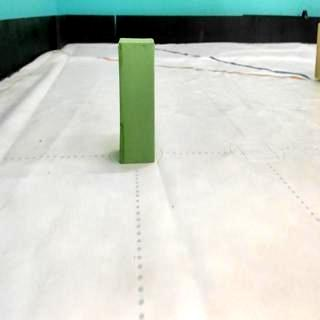greenbox: (118, 37, 156, 165)
